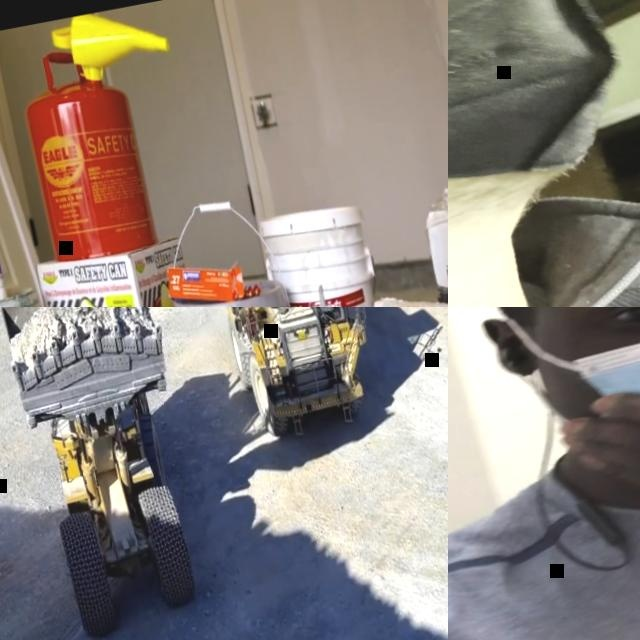Mask: (448, 0, 640, 248), (561, 307, 640, 454)
NO-Safety Vest: (448, 412, 640, 640), (448, 231, 640, 307)
Person: (448, 307, 640, 640), (448, 0, 640, 307)
machinery: (0, 307, 226, 640), (194, 307, 399, 459)
